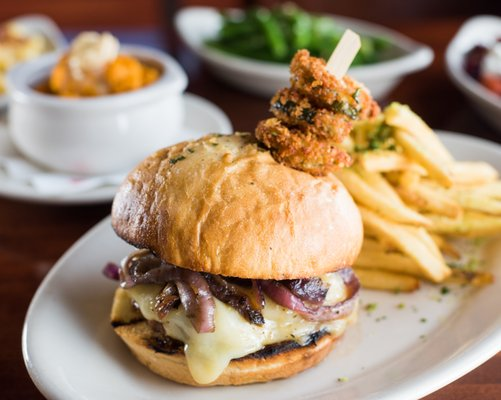soup: (107, 132, 365, 387)
sushi: (4, 33, 203, 177), (171, 0, 435, 101), (443, 14, 501, 141), (0, 13, 69, 118)
